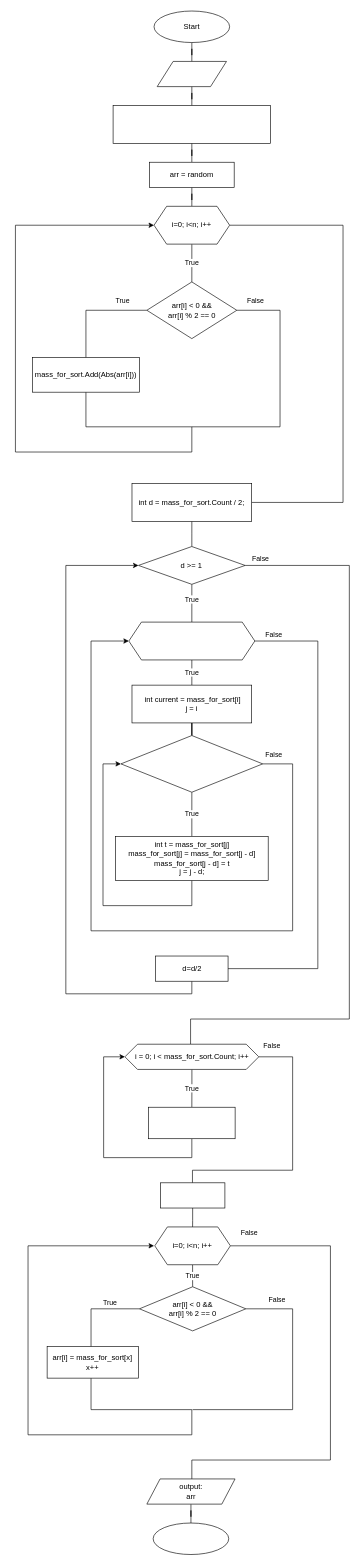
This 361x1566 diagram has some shape labels left out. Here are the shapes that lost their labels. From the top down, the centre of each, then its label:
the point at 191,74: input: n є R
the point at 191,124: int i = 0, j = 0 int[] arr = new int[n] List<int> mass_for_sort= new List<int>()
the point at 191,640: i = d; i < mass_for_sort.Count; i++
the point at 191,763: (j >= d) && (mass_for_sort[j - d] > current)
the point at 191,1123: mass_for_sort = mass_for_sort * (-1)
the point at 192,1195: x = 0
the point at 191,1538: End
